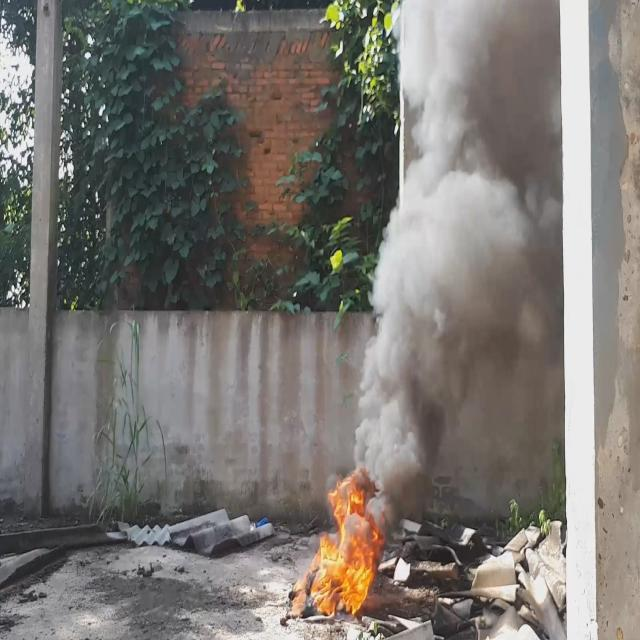Fire: (312, 467, 384, 619)
Smoke: (351, 0, 561, 544)
